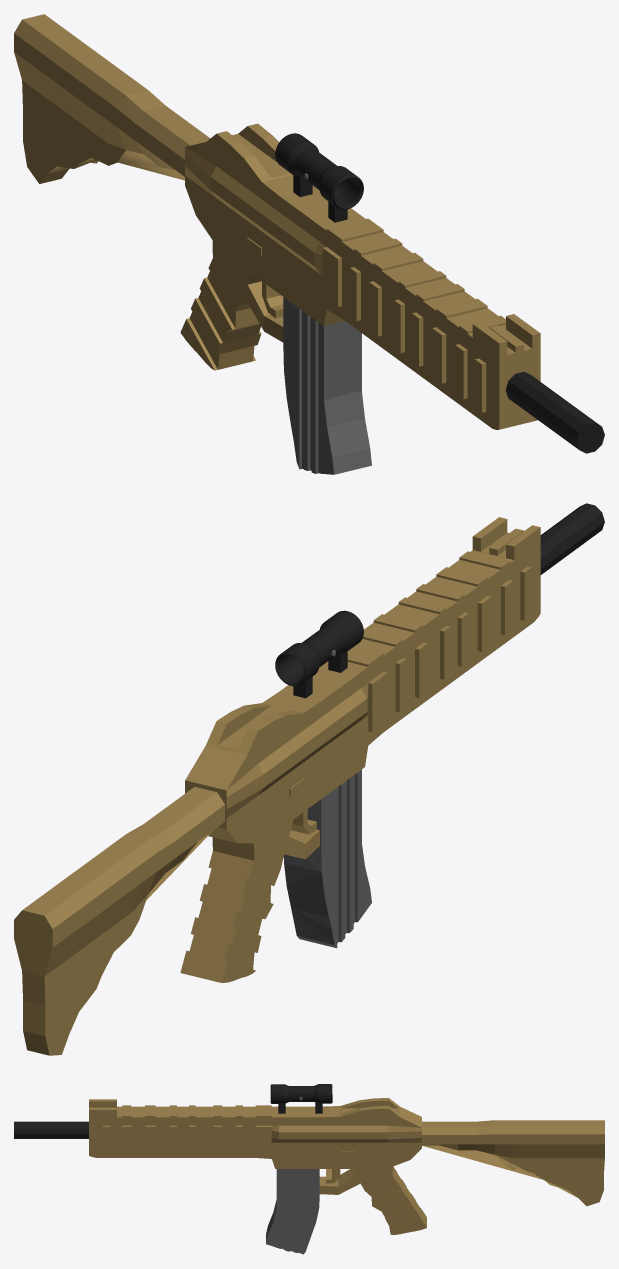
The picture shows the model from 3 angles, top to bottom: view 1: azimuth 30°, elevation 25°; view 2: azimuth 150°, elevation 25°; view 3: azimuth 270°, elevation 25°; orthographic projection. The views are drawn at different scales.
Parts seen in each view (by area): view 1: Cube_1_2, Cube_2_2, Cube_2, Cube_3, Cylinder_2, Tube, Cube_4; view 2: Cube_1_2, Cube_2_2, Cube_3, Cube_2, Tube, Cylinder_2, Cube_4; view 3: Cube_1_2, Cube_2_2, Cube_2, Cube_3, Cylinder_2, Tube, Cube_4.
Boxes of the visible parts, x1,y1,x2,y2 form: Cube_1_2: (185, 123, 540, 429); Cube_2_2: (14, 14, 210, 183); Cube_2: (283, 297, 371, 474); Cube_3: (180, 232, 283, 370); Cylinder_2: (505, 371, 604, 453); Tube: (275, 133, 363, 209); Cube_4: (232, 126, 290, 177); Cube_1_2: (185, 517, 540, 843); Cube_2_2: (14, 786, 224, 1055); Cube_3: (180, 812, 319, 982); Cube_2: (283, 769, 371, 948); Tube: (275, 610, 363, 686); Cylinder_2: (540, 503, 604, 574); Cube_4: (217, 705, 291, 749); Cube_1_2: (89, 1097, 421, 1183); Cube_2_2: (422, 1120, 604, 1206); Cube_2: (266, 1169, 319, 1254); Cube_3: (319, 1155, 426, 1234); Cylinder_2: (14, 1121, 88, 1138); Tube: (270, 1084, 332, 1103); Cube_4: (341, 1100, 398, 1113).
Bounding box in the file's own units: 36.63 × 206 × 668.
